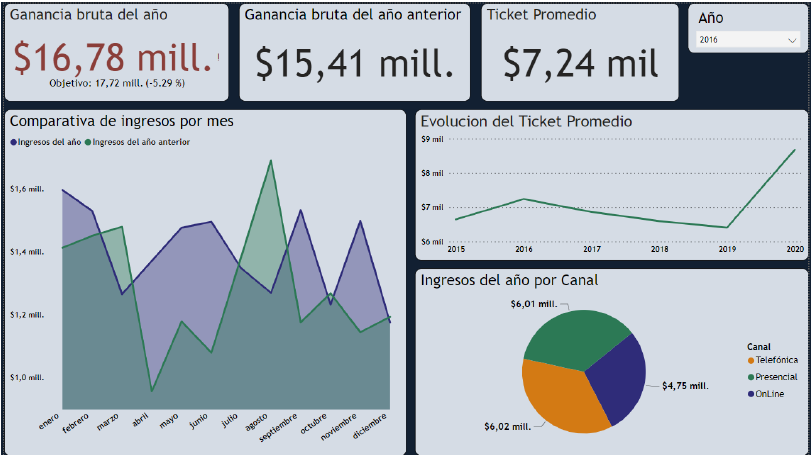

The dashboard page shown, as its layout file describes it:
{"tool":"powerbi","page":{"name":"Ganancia","canvas":[1280,720],"ordinal":1},"visuals":[{"type":"pieChart","fields":{"Category":["dim_canal.Canal"],"Y":["fact_ventas.Total_Ventas"]},"box":[653.8,421.2,626.2,298.8],"z":0},{"type":"lineChart","title":"Evolucion del Ticket Promedio","fields":{"Y":["fact_ventas.Ticket_Promedio"],"Category":["dim_calendario.Fecha.Variación.Jerarquía de fechas.Año","dim_calendario.Fecha.Variación.Jerarquía de fechas.Trimestre","dim_calendario.Fecha.Variación.Jerarquía de fechas.Mes","dim_calendario.Fecha.Variación.Jerarquía de fechas.Día"]},"box":[653.8,168.8,626.2,240],"z":1000},{"type":"slicer","title":"Año","fields":{"Values":["dim_calendario.Año"]},"box":[1086.6,76,193,79.6],"z":2000},{"type":"areaChart","title":"Comparativa de ingresos por mes","fields":{"Category":["dim_calendario.Fecha.Variación.Jerarquía de fechas.Año","dim_calendario.Fecha.Variación.Jerarquía de fechas.Trimestre","dim_calendario.Fecha.Variación.Jerarquía de fechas.Mes","dim_calendario.Fecha.Variación.Jerarquía de fechas.Día"],"Y":["fact_ventas.Total_Ventas","fact_ventas.ventas_año_pasado"]},"box":[0,168.8,640.4,240],"z":3000},{"type":"kpi","title":"Ganancia bruta del año","fields":{"Indicator":["fact_ventas.Total_Ventas"],"Goal":["fact_ventas.objetivo_ventas"],"TrendLine":["dim_calendario.Fecha.Variación.Jerarquía de fechas.Año"]},"box":[0,0,358.2,155.6],"z":4000},{"type":"card","title":"Ticket Promedio","fields":{"Values":["fact_ventas.Ticket_Promedio"]},"box":[758.8,0,314.9,155.7],"z":5000},{"type":"card","title":"Ganancia bruta del año anterior","fields":{"Values":["fact_ventas.ventas_año_pasado"]},"box":[372.7,0,369,155.6],"z":6000},{"type":"columnChart","title":"Ventas segun rango etario del cliente","fields":{"Y":["fact_ventas.Ingresos del año"],"Category":["dim_clientes.Rango_Etario"]},"box":[0,421,640,299],"z":7000},{"type":"shape","box":[1086.6,0,193,67.5],"z":7001}]}

Visuals, with their boxes in screenshot pixels (x1, y1, x2, y2), scaled from the page's 1280x720 canvas onto the 811x455 screenshot:
pieChart - dim_canal.Canal x fact_ventas.Total_Ventas: {"left": 414, "top": 266, "right": 810, "bottom": 454}
"Evolucion del Ticket Promedio" lineChart: {"left": 414, "top": 107, "right": 810, "bottom": 258}
"Año" slicer: {"left": 688, "top": 48, "right": 810, "bottom": 98}
"Comparativa de ingresos por mes" areaChart: {"left": 0, "top": 107, "right": 406, "bottom": 258}
"Ganancia bruta del año" kpi: {"left": 0, "top": 0, "right": 227, "bottom": 98}
"Ticket Promedio" card: {"left": 481, "top": 0, "right": 680, "bottom": 98}
"Ganancia bruta del año anterior" card: {"left": 236, "top": 0, "right": 470, "bottom": 98}
"Ventas segun rango etario del cliente" columnChart: {"left": 0, "top": 266, "right": 406, "bottom": 454}
shape: {"left": 688, "top": 0, "right": 810, "bottom": 43}
